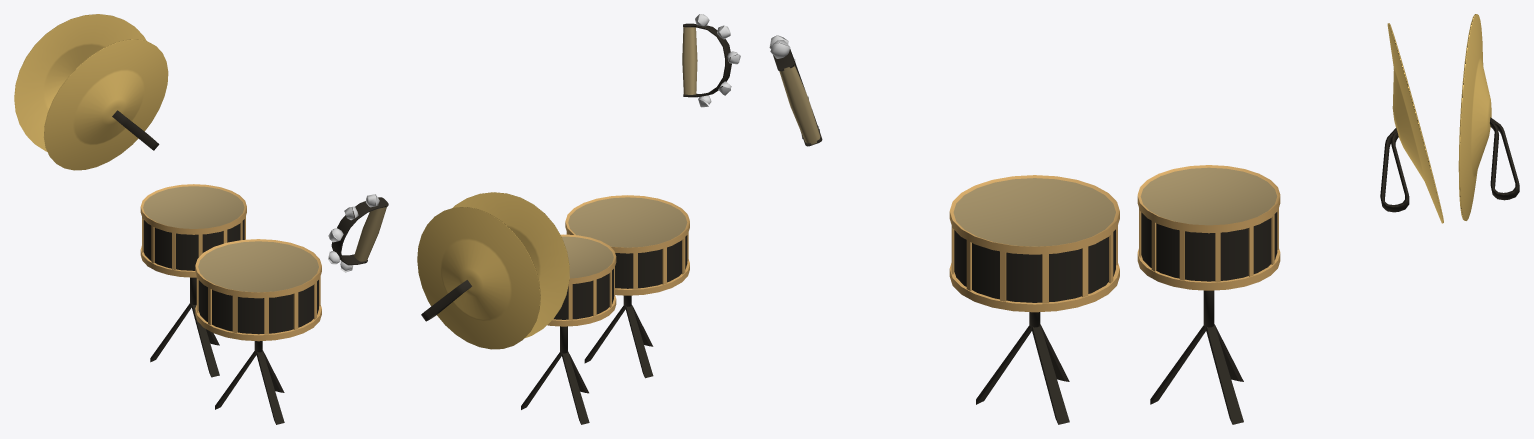
The model's file is percussion.glb.
3 views of the same model, side by side, from view 1: azimuth 30°, elevation 25°; view 2: azimuth 150°, elevation 25°; view 3: azimuth 270°, elevation 25° (orthographic). The views are drawn at different scales.
Parts seen in each view (by area): view 1: Circle.001, Cylinder, Cylinder.002, Circle, chimes, Cylinder.001, Cylinder.003; view 2: Circle, Cylinder, Circle.001, Cylinder.002, chimes, Cylinder.003, Cylinder.001; view 3: Cylinder, Cylinder.002, Circle, Circle.001, Cylinder.003, Cylinder.001, chimes.
Boxes of the visible parts, x1,y1,x2,y2 form: Circle.001: (43, 39, 168, 170); Cylinder: (195, 239, 321, 341); Cylinder.002: (140, 184, 246, 277); Circle: (14, 14, 146, 151); chimes: (328, 194, 388, 272); Cylinder.001: (215, 341, 284, 424); Cylinder.003: (150, 277, 219, 377); Circle: (417, 207, 540, 349); Cylinder: (565, 195, 689, 295); Circle.001: (452, 192, 569, 337); Cylinder.002: (547, 234, 616, 326); chimes: (682, 14, 740, 107); Cylinder.003: (521, 326, 589, 424); Cylinder.001: (584, 295, 653, 378); Cylinder: (949, 175, 1119, 312); Cylinder.002: (1137, 165, 1280, 290); Circle: (1458, 14, 1519, 220); Circle.001: (1380, 23, 1443, 223); Cylinder.003: (1150, 290, 1243, 424); Cylinder.001: (976, 312, 1069, 424); chimes: (769, 35, 822, 146).
Bounding box in the file's own units: 0.6064 × 1.21 × 2.2.
